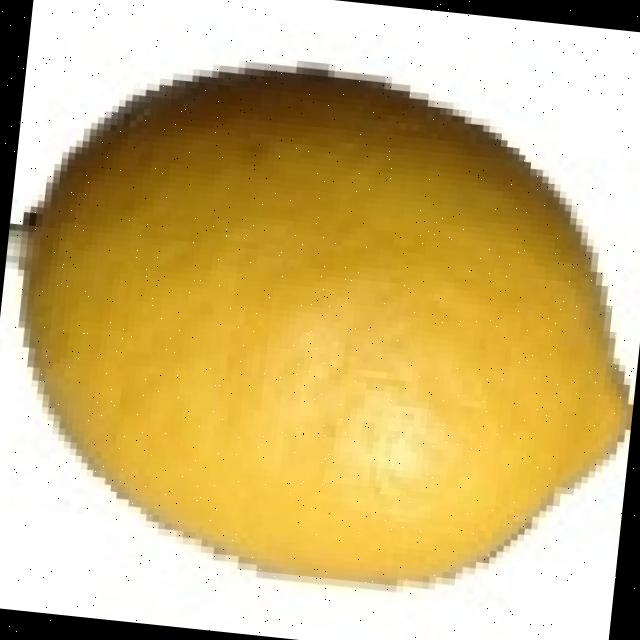lemon: (18, 71, 633, 584)
